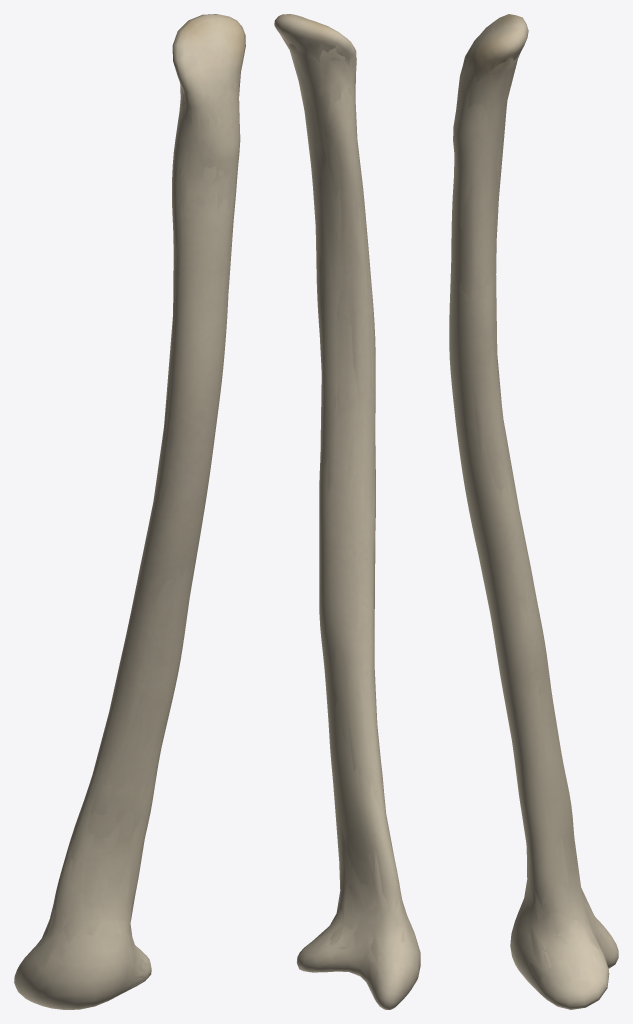
The model's file is L Radius.fbx.
3 renders of one model, left to right at view 1: azimuth 30°, elevation 25°; view 2: azimuth 150°, elevation 25°; view 3: azimuth 270°, elevation 25°, orthographic. The views are drawn at different scales.
Parts seen in each view (by area): view 1: L Radius, L Radius high, L Radius low; view 2: L Radius low, L Radius, L Radius high; view 3: L Radius high, L Radius, L Radius low.
Boxes of the visible parts, left/top/right/bottom form: L Radius: left=14, top=14, right=245, bottom=1009; L Radius high: left=15, top=14, right=245, bottom=1009; L Radius low: left=35, top=73, right=240, bottom=971; L Radius low: left=281, top=36, right=406, bottom=978; L Radius: left=274, top=14, right=420, bottom=1009; L Radius high: left=275, top=14, right=420, bottom=1009; L Radius high: left=449, top=15, right=617, bottom=1007; L Radius: left=450, top=14, right=618, bottom=1009; L Radius low: left=453, top=53, right=603, bottom=984.
Size of the model in its own units: 7.52 by 39.26 by 5.93.
1 material, 1 textured.
